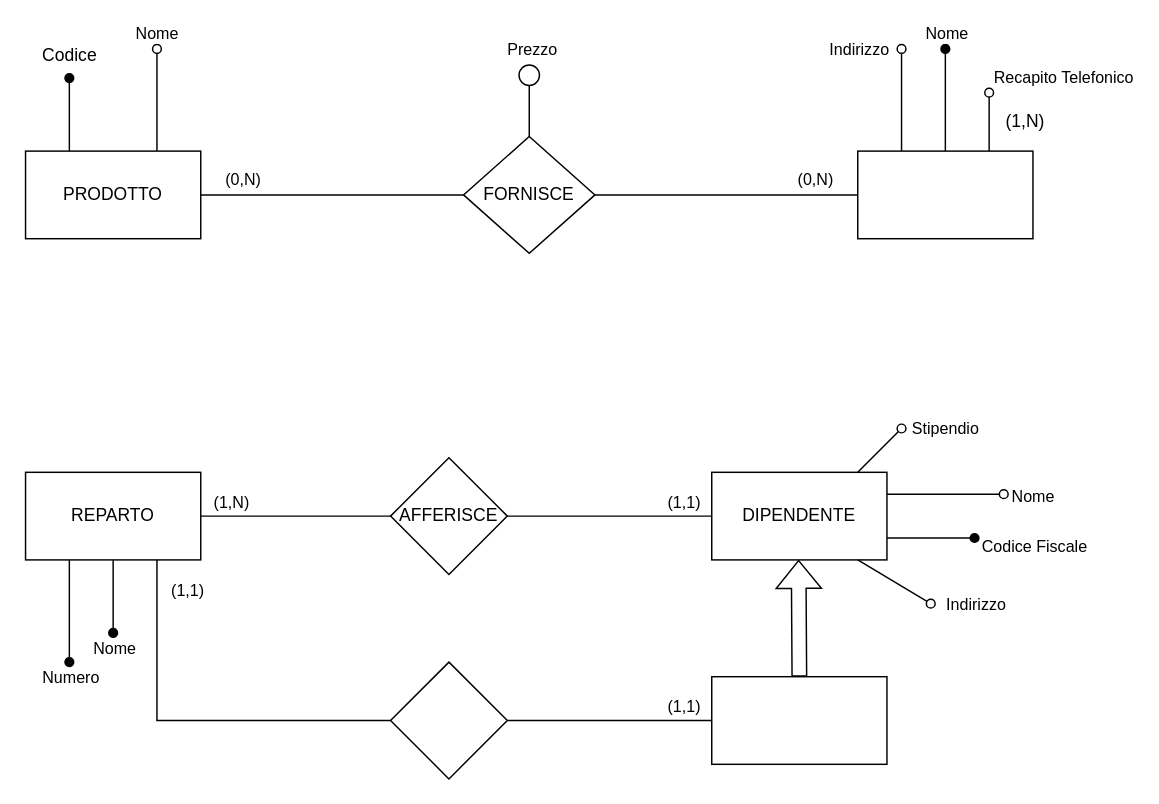
The diagram is 1159 pixels wide and 804 high, and some of its shapes have lost their labels. The box of each missing label's shape, as (x1, y1, x2, y2) in pixels:
CAPO REPARTO: (710, 675, 887, 764)
FORNITORE: (856, 150, 1033, 239)
GESTISCE: (389, 661, 507, 779)
